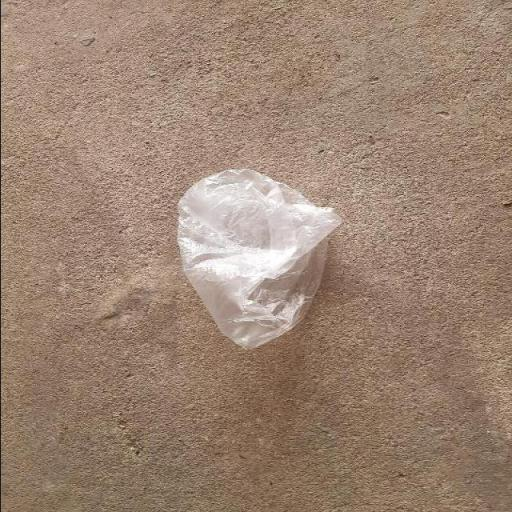plastic-bag: (170, 163, 346, 354)
